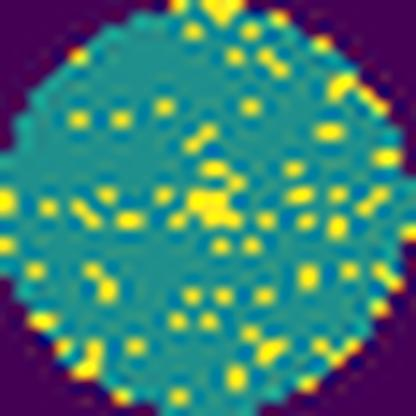Center: (169, 150, 249, 236)
